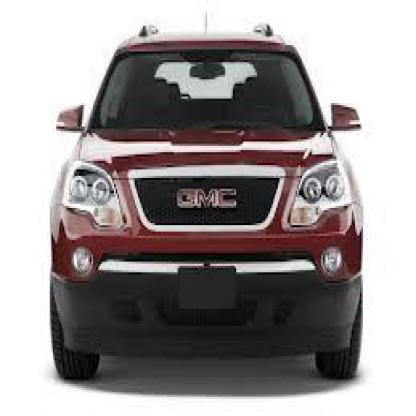Vehicle: (43, 4, 373, 390)
